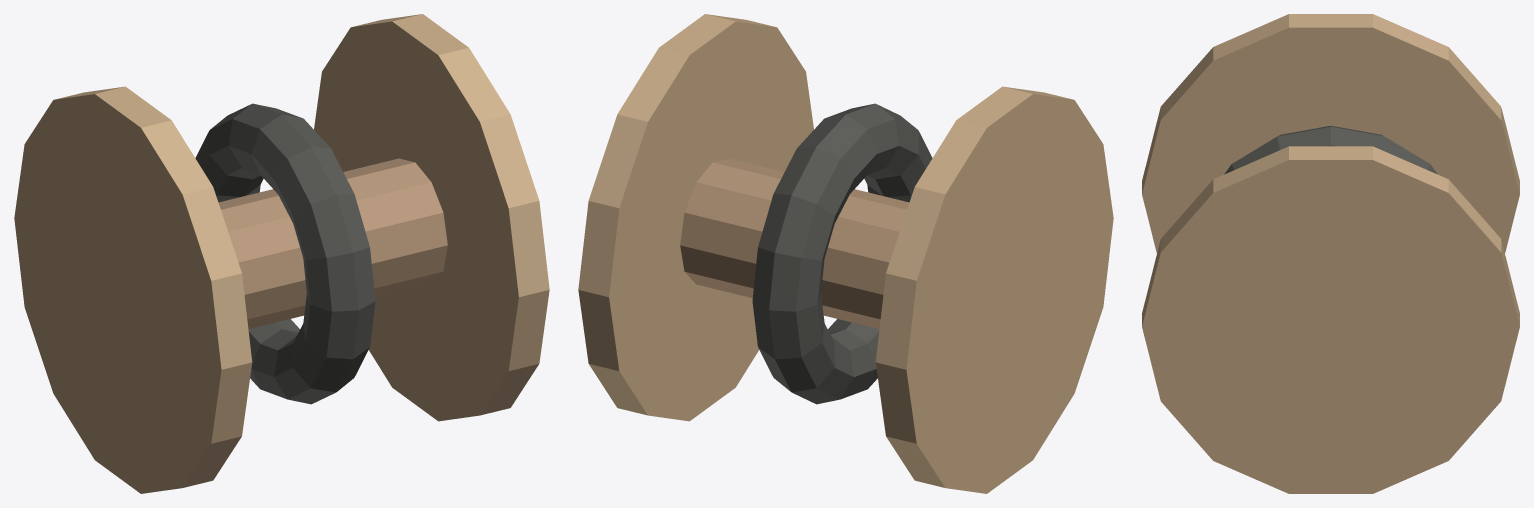
File: cable_spool_01.glb
3 views of the same model, side by side, from view 1: azimuth 30°, elevation 25°; view 2: azimuth 150°, elevation 25°; view 3: azimuth 270°, elevation 25° (orthographic). The views are drawn at different scales.
Parts seen in each view (by area): view 1: left, right, cable, core; view 2: left, right, cable, core; view 3: right, left, cable.
Boxes of the visible parts, bbox=[...] form: left: bbox=[14, 86, 252, 493]; right: bbox=[314, 14, 549, 421]; cable: bbox=[195, 103, 375, 404]; core: bbox=[218, 158, 447, 328]; left: bbox=[875, 86, 1113, 493]; right: bbox=[578, 14, 813, 421]; cable: bbox=[752, 103, 932, 404]; core: bbox=[680, 158, 909, 328]; right: bbox=[1142, 146, 1519, 493]; left: bbox=[1142, 14, 1519, 252]; cable: bbox=[1224, 125, 1437, 174].
Size of the model in its own units: 0.64 by 0.6824 by 0.7.
